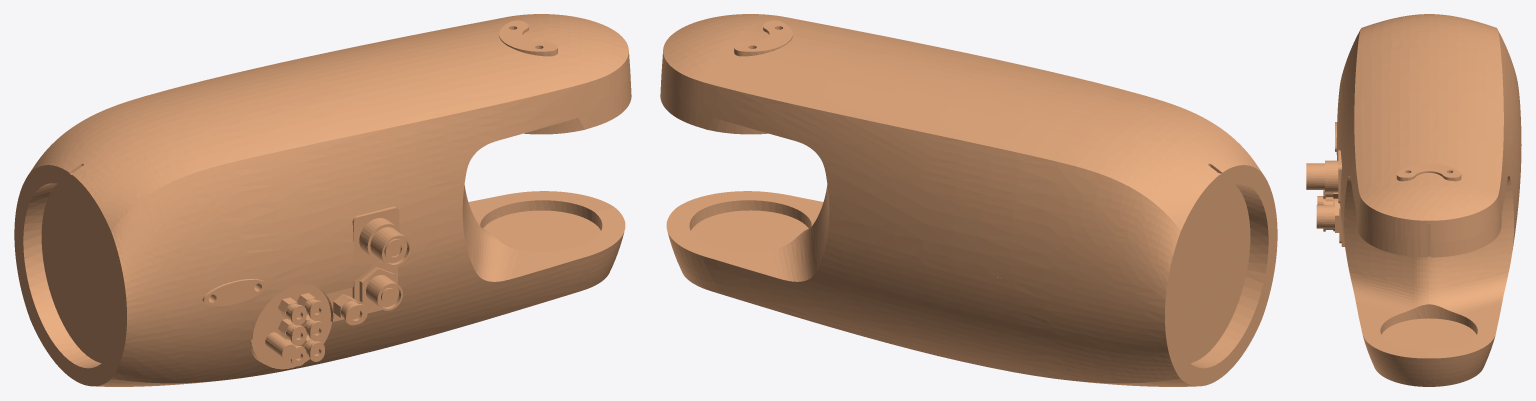
3 renders of one model, left to right at view 1: azimuth 30°, elevation 25°; view 2: azimuth 150°, elevation 25°; view 3: azimuth 270°, elevation 25°, orthographic. The views are drawn at different scales.
Parts seen in each view (by area): view 1: /link_4/link_4_001-mesh/0; view 2: /link_4/link_4_001-mesh/0; view 3: /link_4/link_4_001-mesh/0.
Boxes of the visible parts, bbox=[...] form: /link_4/link_4_001-mesh/0: bbox=[14, 14, 631, 386]; /link_4/link_4_001-mesh/0: bbox=[660, 14, 1277, 386]; /link_4/link_4_001-mesh/0: bbox=[1306, 14, 1521, 386].
Size of the model in its own units: 0.3008 by 0.1339 by 0.128.
